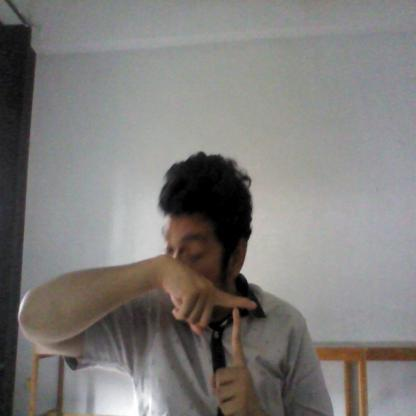T: (154, 253, 259, 416)
